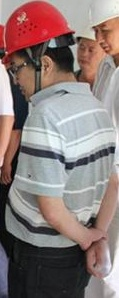boots: (0, 220, 11, 235), (0, 203, 9, 216)
hard-hat: (2, 0, 74, 63)
